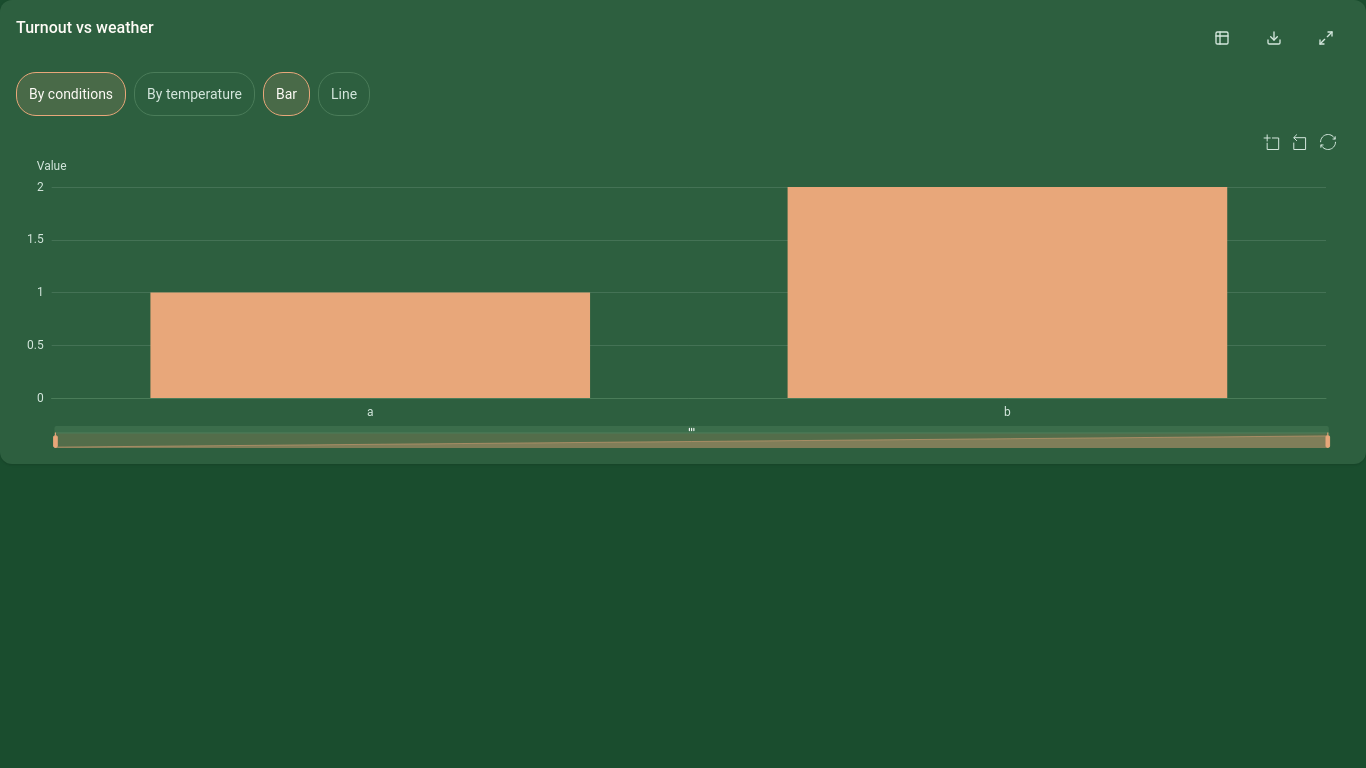
ChartCard fullSpec › says so in the dialog when the full result is cut short
expect the picture named "Turnout vs weather" is shown: met, box [16, 128, 1350, 448]
Click the button named "Fullscreen".
click(1326, 38)  # box [1302, 16, 1350, 60]
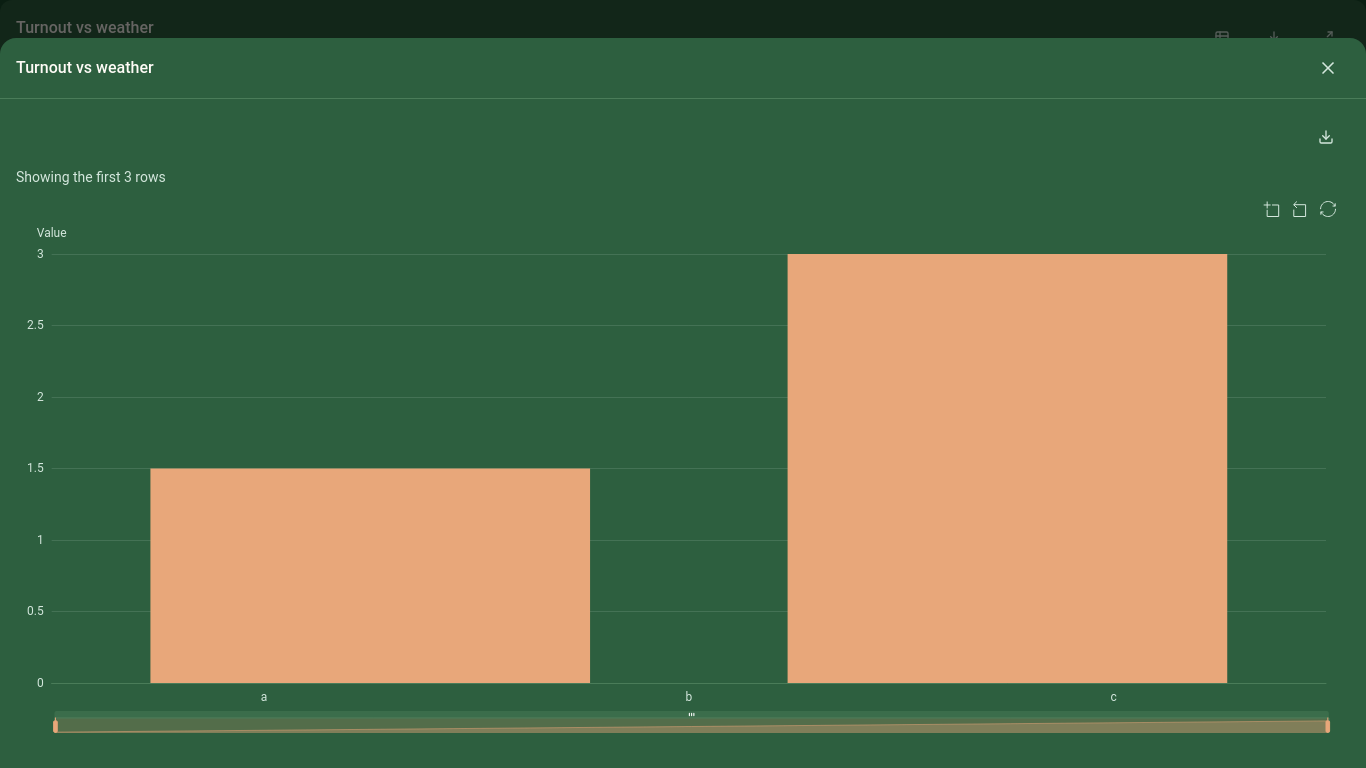
expect the text "Showing the first 3 rows" is shown: met, box [16, 169, 166, 185]
